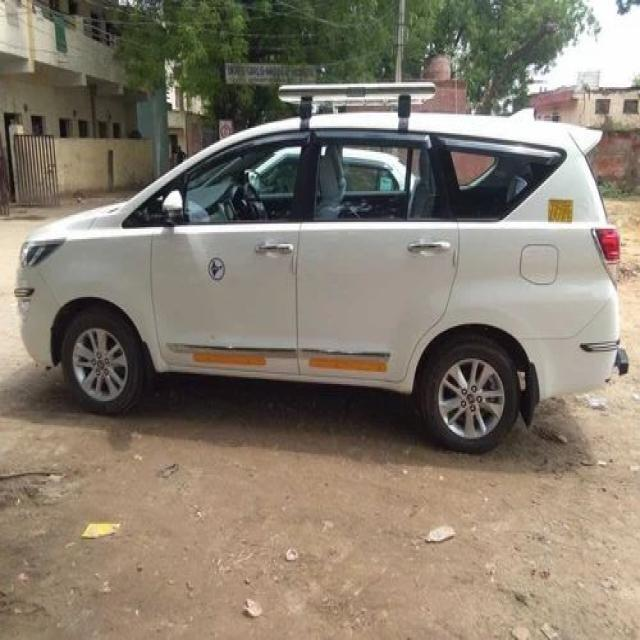light_vehicle: (14, 84, 629, 454)
